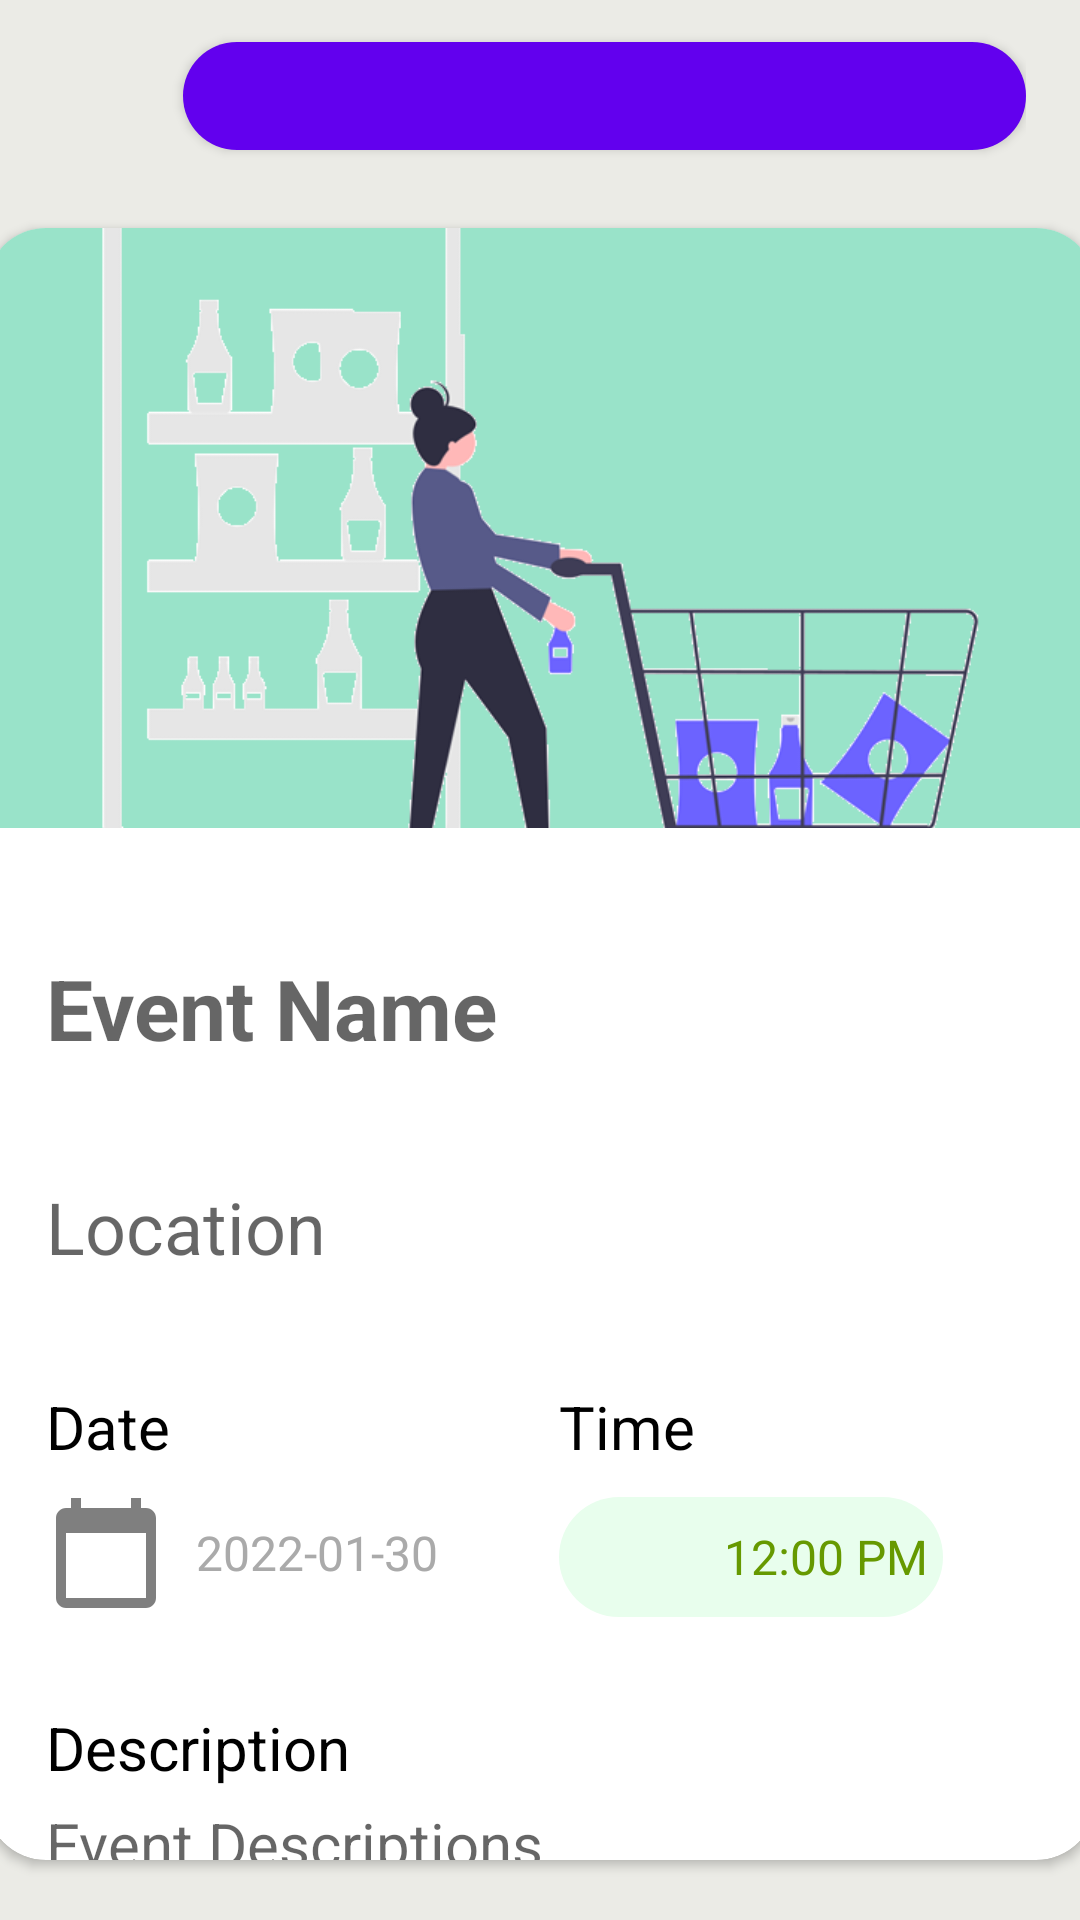

Named icons in this screenshot (1080 × 1920) and their centers, (x,y):
calendar today: (106,1553)
